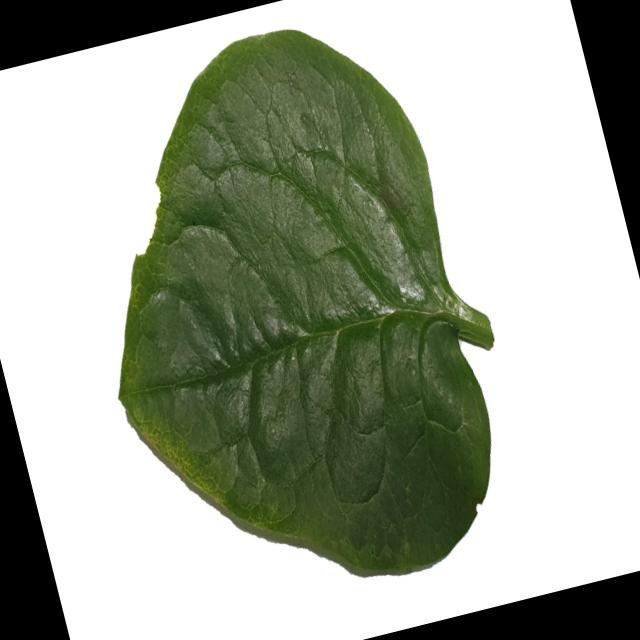Medicinal-Basale: (39, 0, 544, 631)
